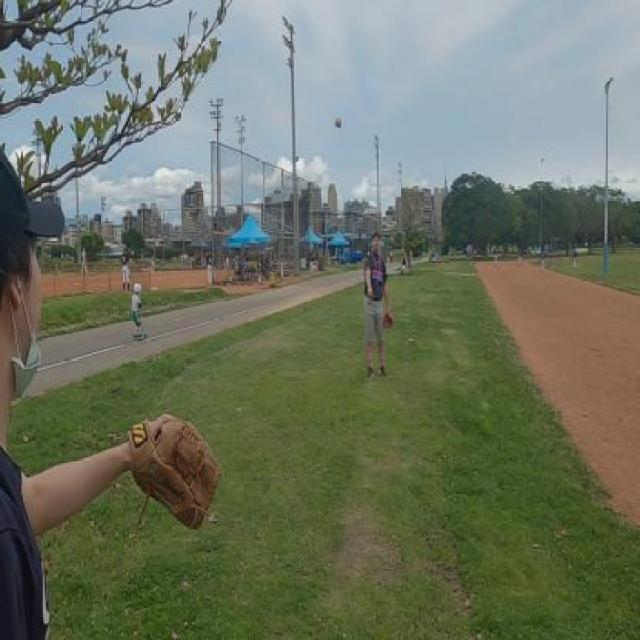baseball: (336, 116, 342, 129)
